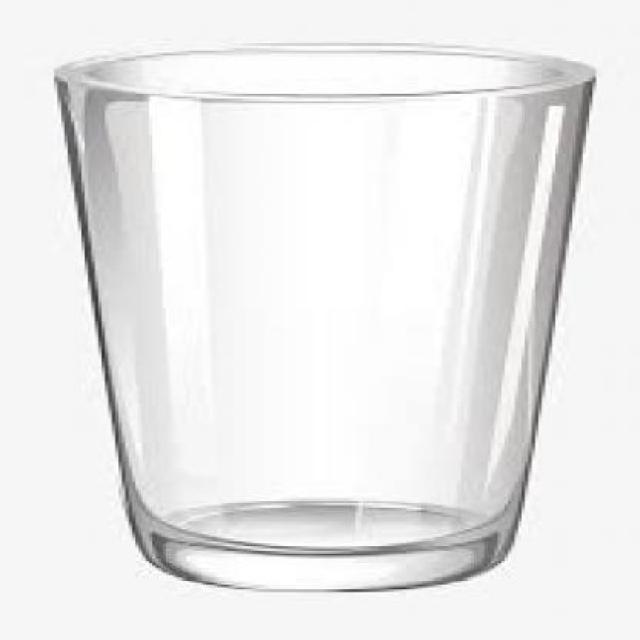kaca: (54, 42, 592, 584)
